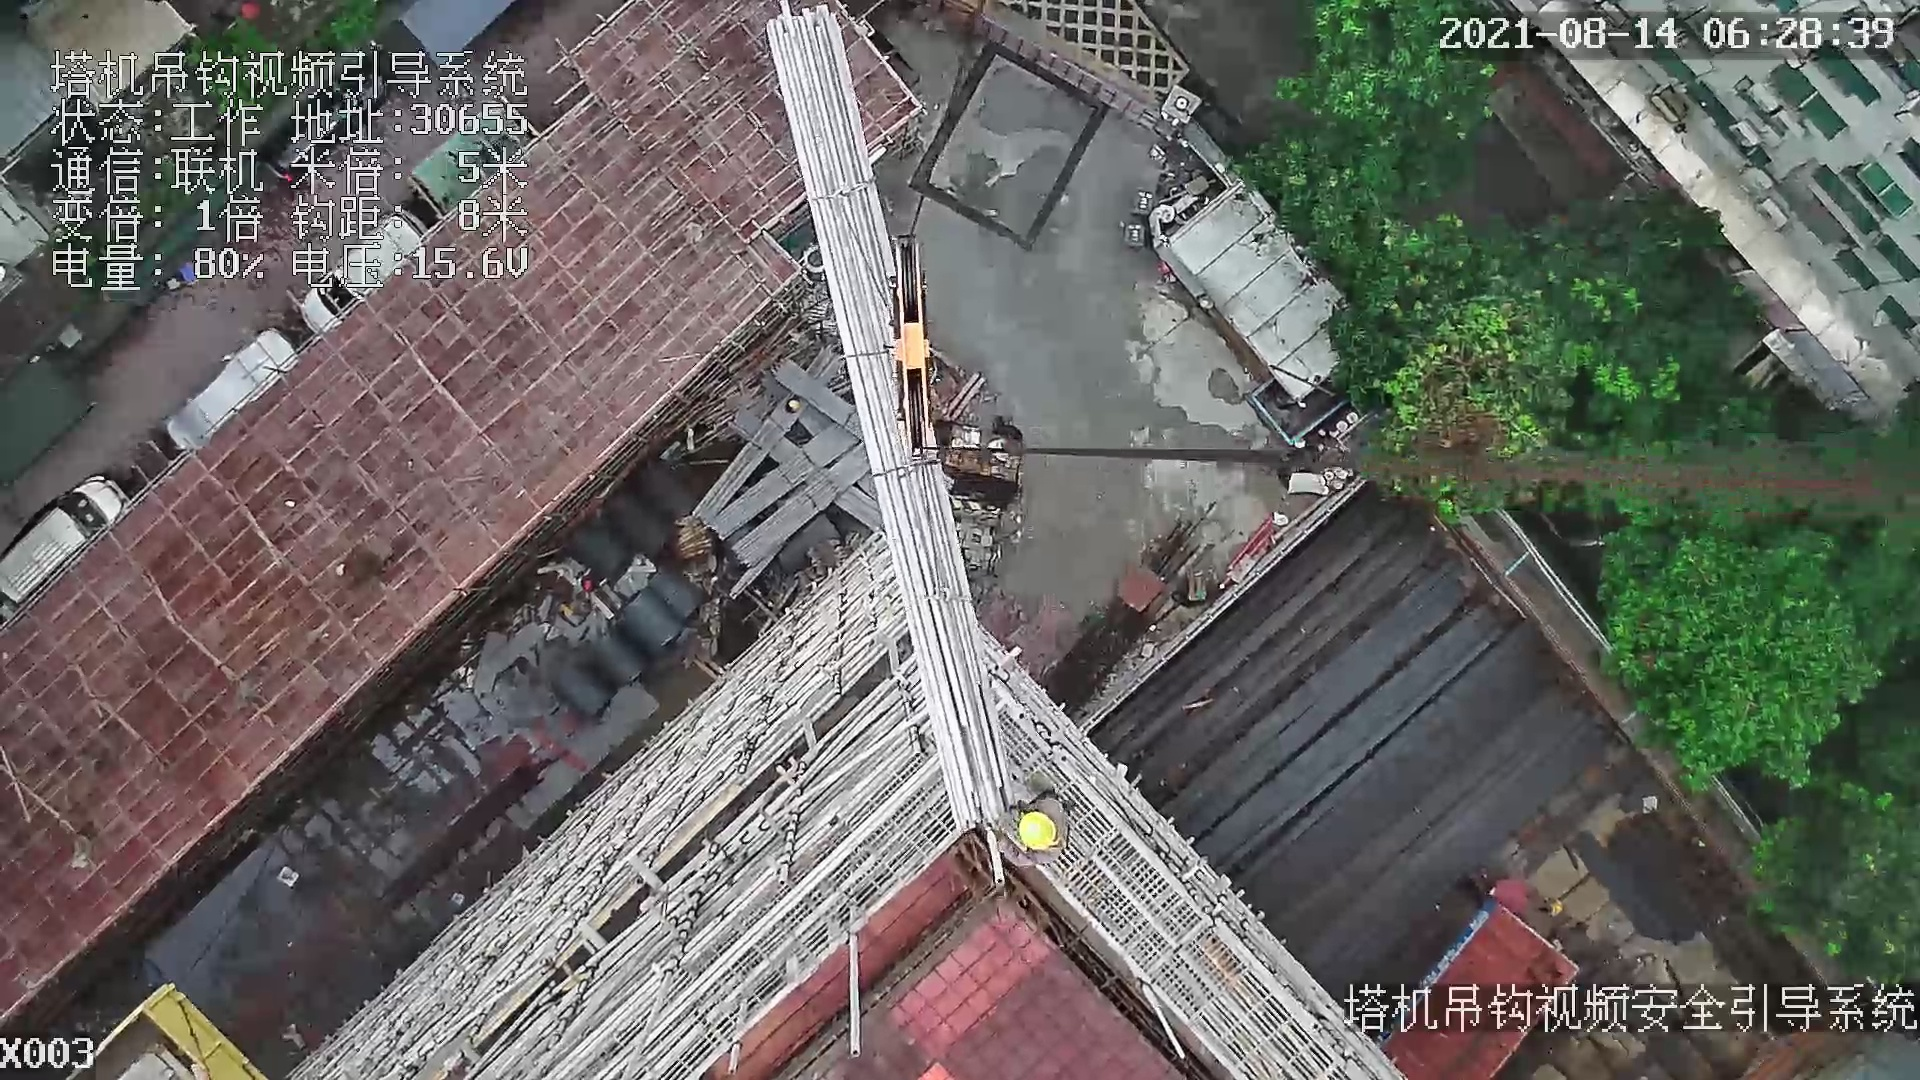helmet: (1011, 809, 1065, 854)
hook: (892, 234, 940, 459)
person: (997, 783, 1074, 869)
